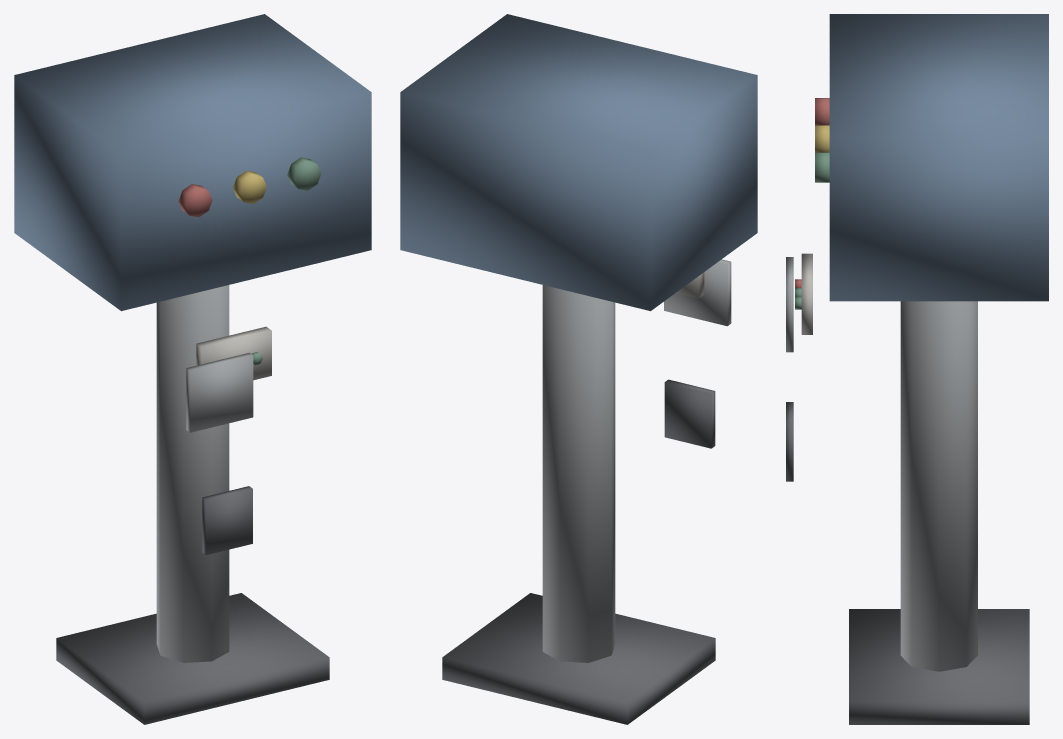
Rendered from pedestal_machine_control__weathered.glb.
3 views of the same model, side by side, from view 1: azimuth 30°, elevation 25°; view 2: azimuth 150°, elevation 25°; view 3: azimuth 270°, elevation 25° (orthographic). The views are drawn at different scales.
Parts seen in each view (by area): view 1: world; view 2: world; view 3: world.
Part boxes in pixels (left/top/right/bottom): world: left=14, top=14, right=371, bottom=724; world: left=400, top=14, right=757, bottom=724; world: left=786, top=14, right=1048, bottom=724.
Bounding box in the file's own units: 0.46 × 1.03 × 0.4075.
